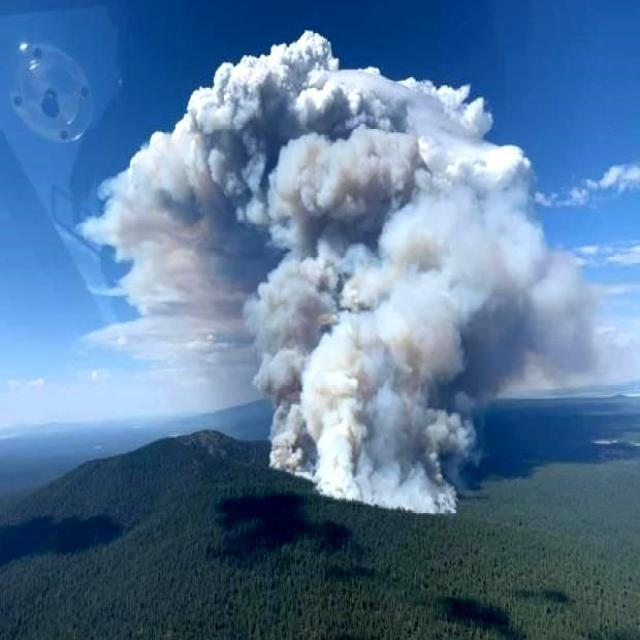Smoke: (105, 24, 552, 524)
